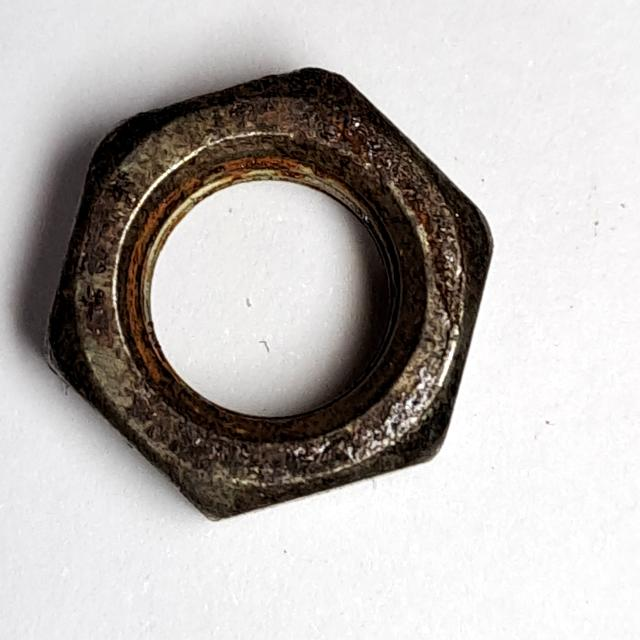Rust: (31, 55, 502, 536)
